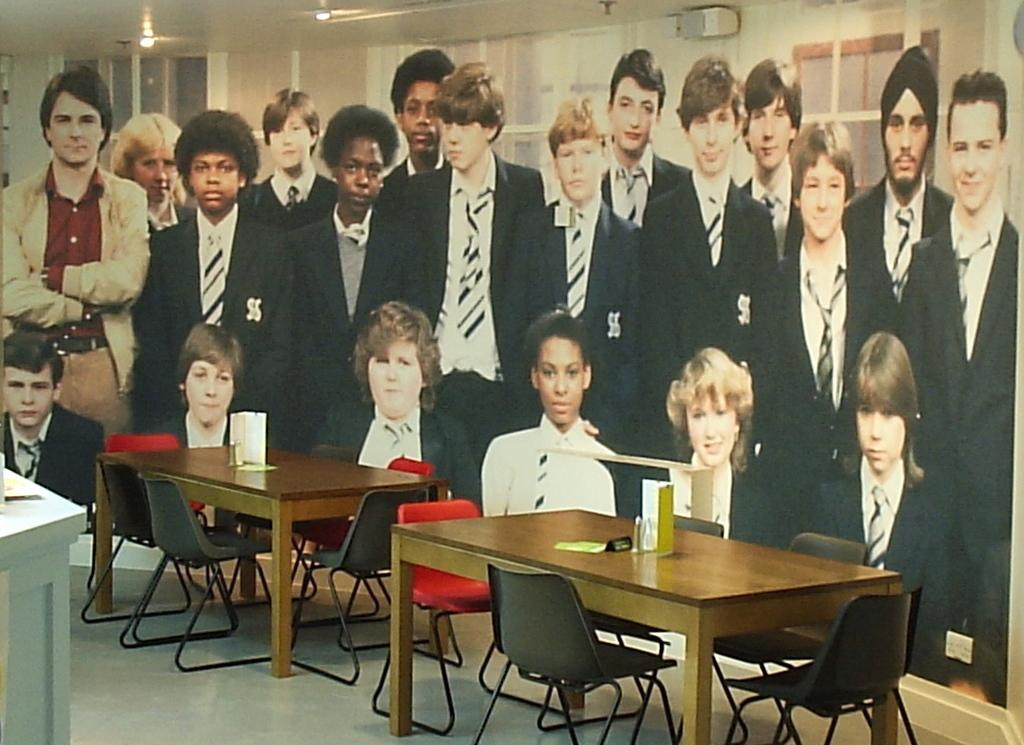Chair: (473, 562, 677, 744), (289, 486, 456, 685), (721, 585, 922, 744), (119, 473, 273, 672)
